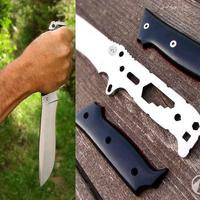knife: (70, 9, 200, 143), (28, 10, 74, 189)
